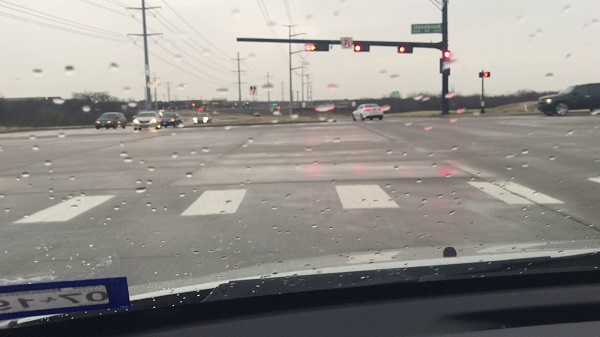car: (539, 83, 599, 113), (93, 112, 127, 129), (352, 104, 384, 121), (134, 110, 161, 129), (162, 113, 181, 125), (193, 114, 211, 123)
